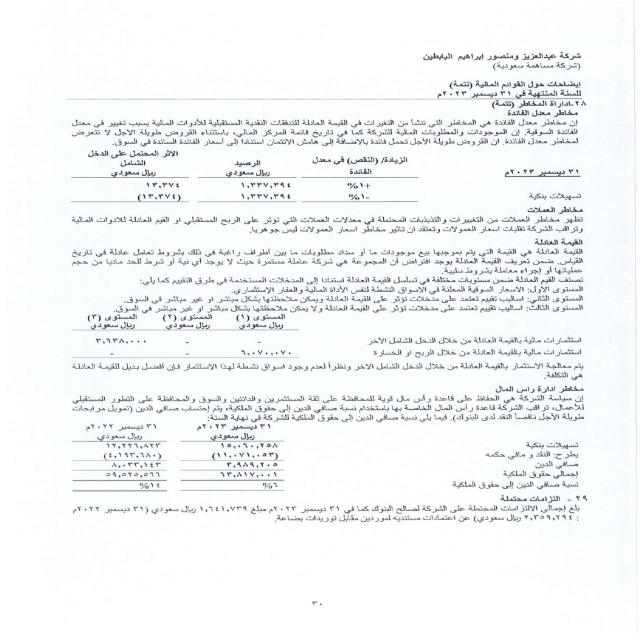notes: (414, 78, 586, 89)
table: (53, 148, 422, 206), (72, 423, 297, 495), (56, 309, 301, 358)
